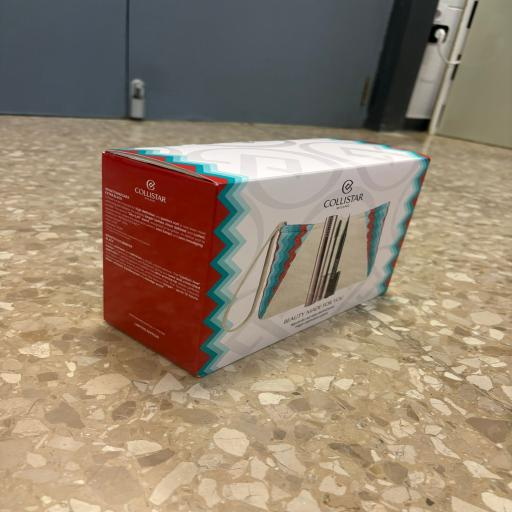caja_1: (103, 139, 428, 375)
